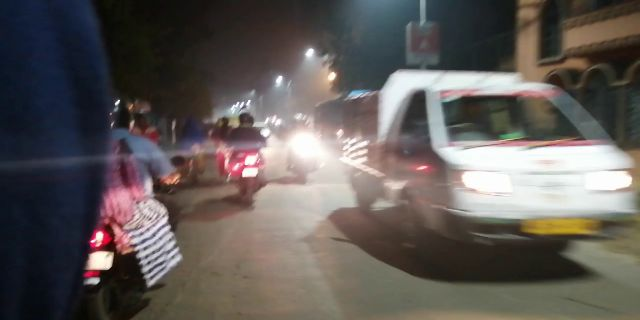Minitruck: (363, 64, 636, 249)
Motorbike: (83, 95, 189, 313), (219, 111, 269, 210)
